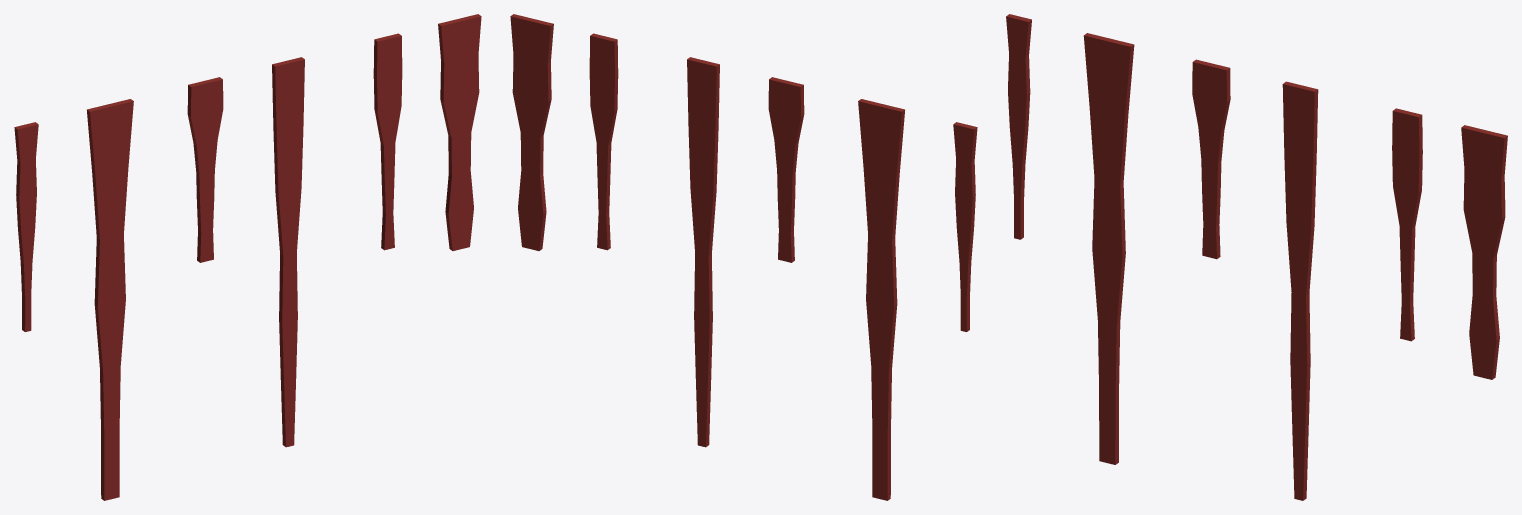
File: gore_drips.glb
3 renders of one model, left to right at view 1: azimuth 30°, elevation 25°; view 2: azimuth 150°, elevation 25°; view 3: azimuth 330°, elevation 25°, orthographic. The views are drawn at different scales.
Parts seen in each view (by area): view 1: NC_gore_drips; view 2: NC_gore_drips; view 3: NC_gore_drips.
Boxes of the visible parts, <box> form: NC_gore_drips: <box>14,14,481,500</box>; NC_gore_drips: <box>510,14,977,500</box>; NC_gore_drips: <box>1006,14,1507,500</box>.
Size of the model in its own units: 0.7505 by 0.607 by 0.009.
